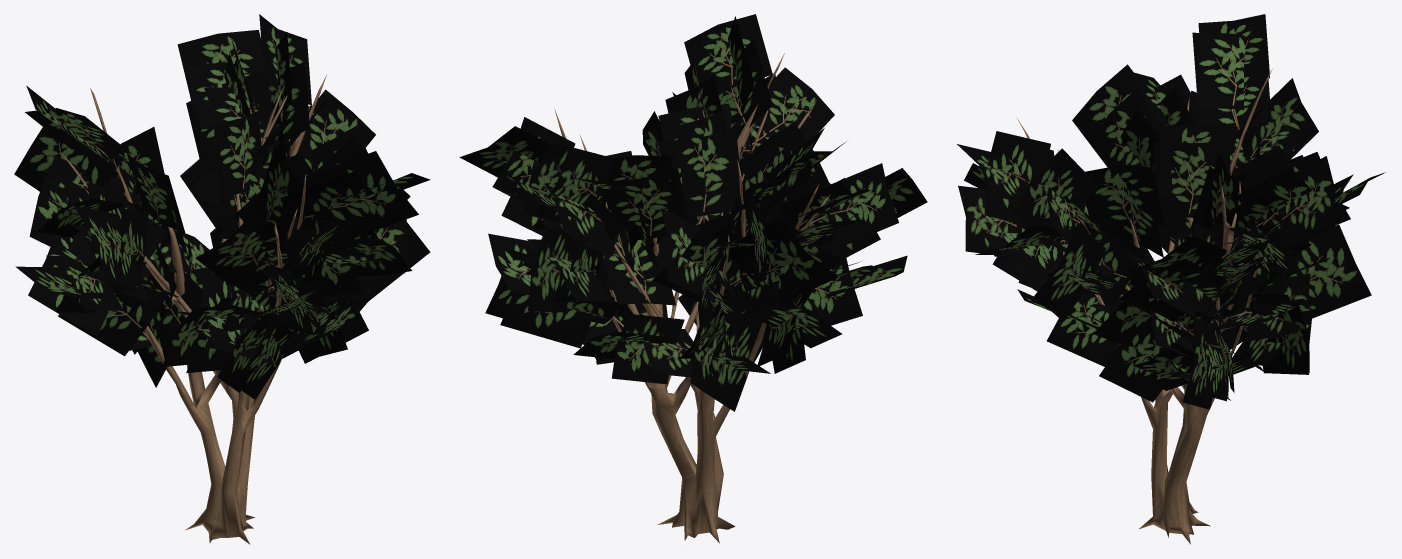
File: Arbousier_V10_2_LOD1.fbx
3 views of the same model, side by side, from view 1: azimuth 30°, elevation 25°; view 2: azimuth 150°, elevation 25°; view 3: azimuth 270°, elevation 25° (orthographic). The views are drawn at different scales.
Visible parts, largest first — view 1: Arbousier_V10_2_LOD1; view 2: Arbousier_V10_2_LOD1; view 3: Arbousier_V10_2_LOD1.
Boxes of the visible parts, x1=… form: Arbousier_V10_2_LOD1: x1=14, y1=14, x2=430, y2=544; Arbousier_V10_2_LOD1: x1=459, y1=14, x2=927, y2=544; Arbousier_V10_2_LOD1: x1=957, y1=14, x2=1385, y2=544.
Size of the model in its own units: 222 by 254 by 225.
